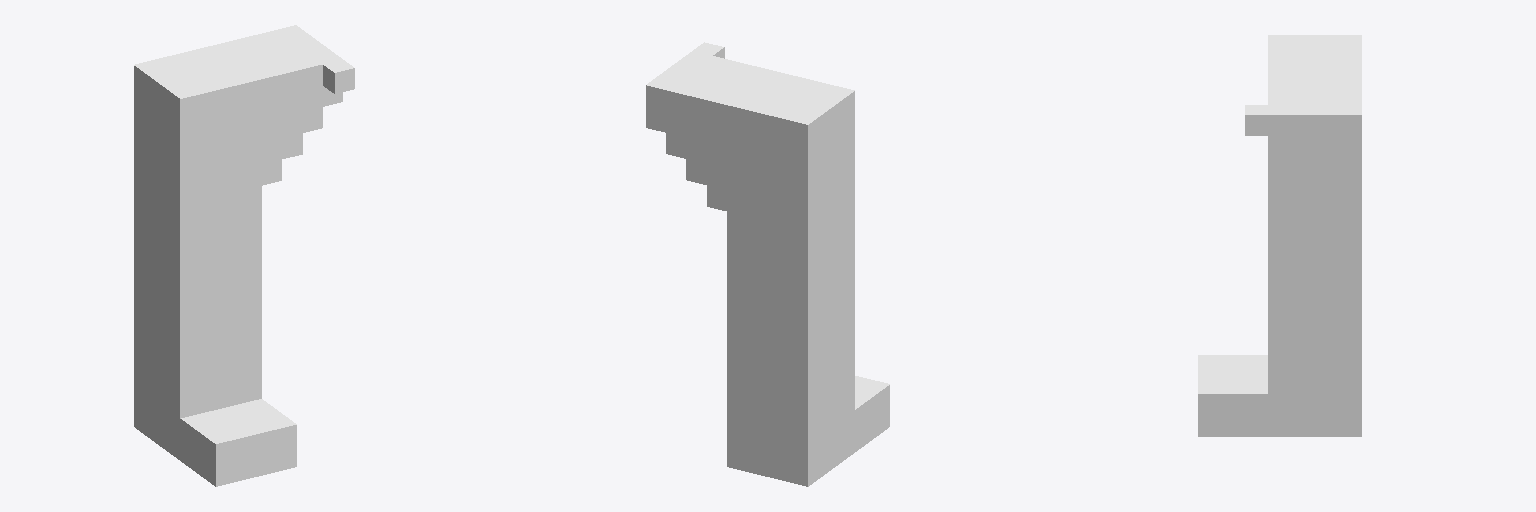
Rendered from JagerNaut-1.obj.
The picture shows the model from 3 angles: view 1: azimuth 30°, elevation 25°; view 2: azimuth 150°, elevation 25°; view 3: azimuth 270°, elevation 25°; orthographic projection.
Parts seen in each view (by area): view 1: object 1; view 2: object 1; view 3: object 1.
Part boxes in pixels (bbox=[...]): object 1: bbox=[134, 25, 354, 486]; object 1: bbox=[646, 42, 889, 486]; object 1: bbox=[1198, 35, 1361, 436].
Bounding box in the file's own units: 0.8 × 1.7 × 0.7.